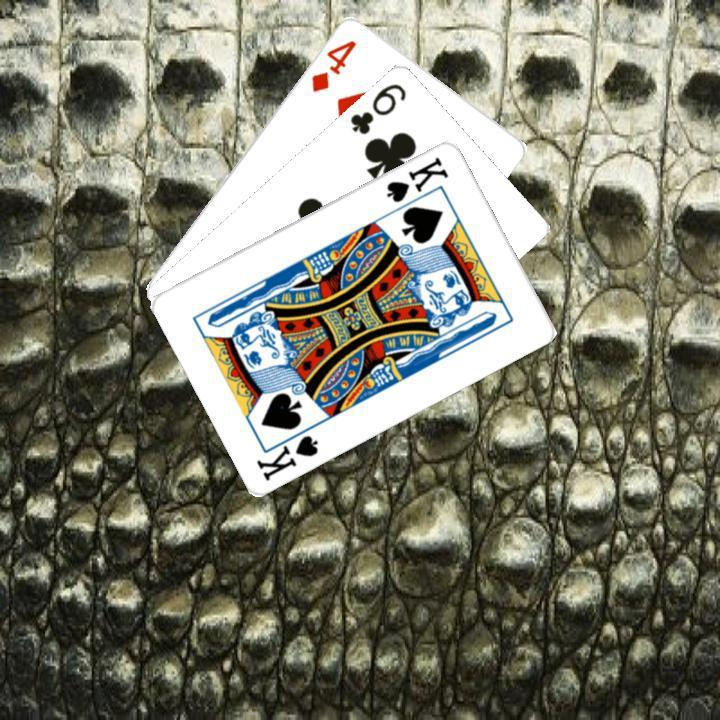4: (306, 35, 358, 94)
6: (345, 78, 409, 136)
K: (252, 419, 321, 482), (382, 151, 451, 204)
